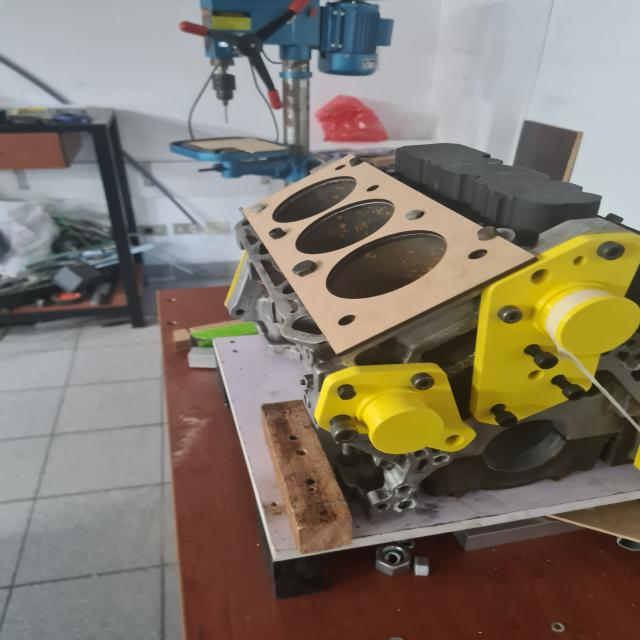vista1: (240, 153, 536, 353)
